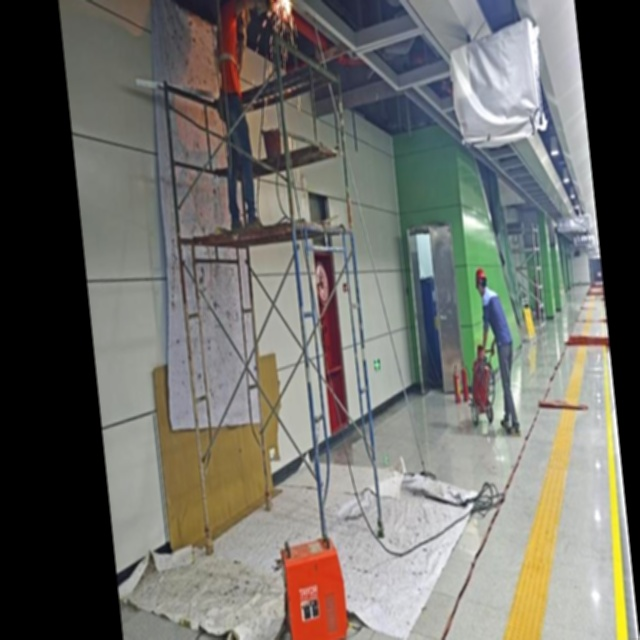Sin_Chaleco: (480, 287, 512, 353)
